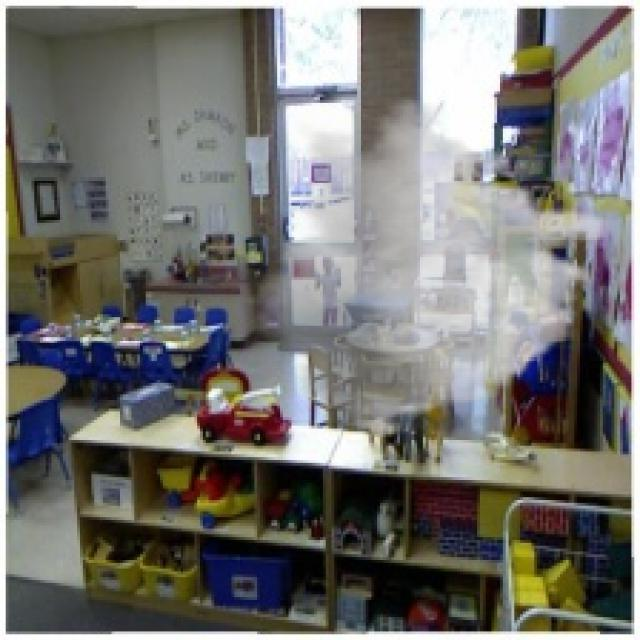smoke: (237, 97, 620, 443)
